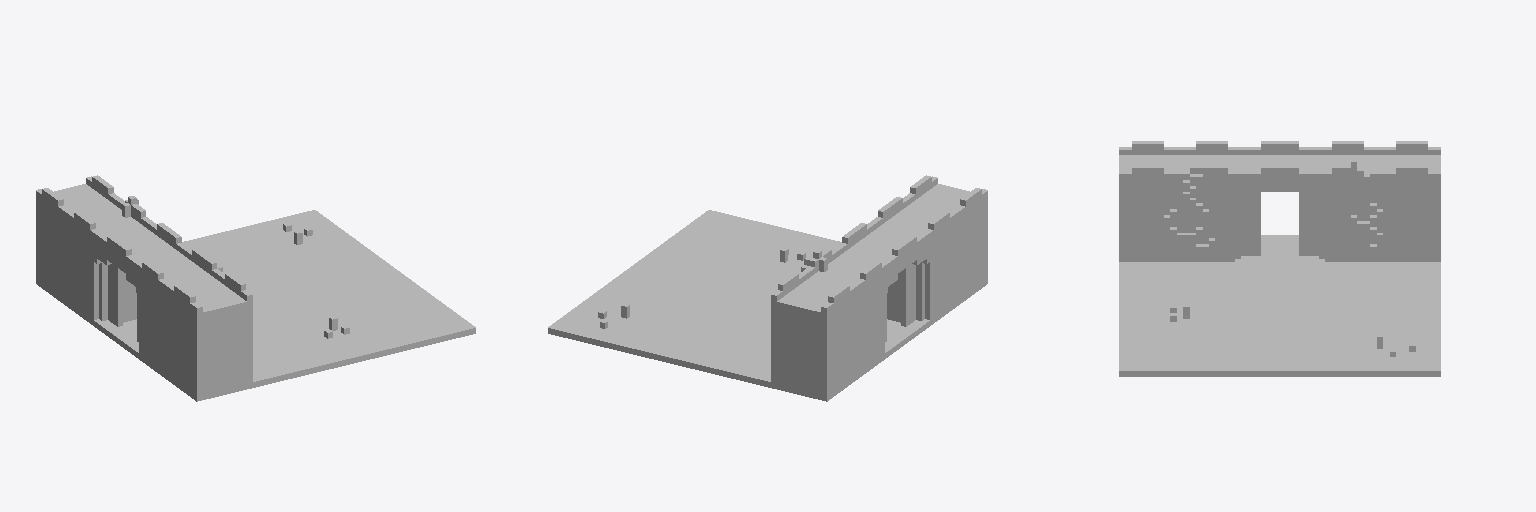
The model's file is castle gate.obj.
3 renders of one model, left to right at view 1: azimuth 30°, elevation 25°; view 2: azimuth 150°, elevation 25°; view 3: azimuth 270°, elevation 25°, orthographic.
Visible parts, largest first — view 1: castle gate; view 2: castle gate; view 3: castle gate.
Part boxes in pixels (left/top/right/bottom): castle gate: left=36, top=175, right=475, bottom=401; castle gate: left=548, top=175, right=987, bottom=401; castle gate: left=1119, top=141, right=1440, bottom=376.
Size of the model in its own units: 50 by 18 by 50.